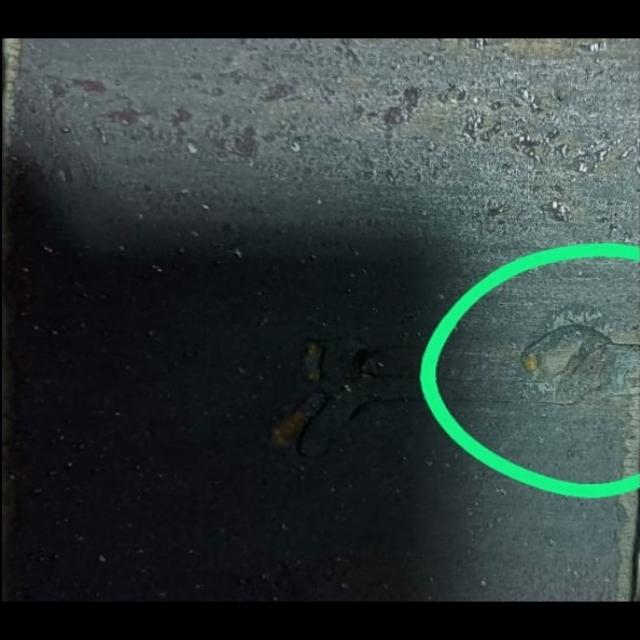defect: (270, 340, 421, 456), (438, 322, 637, 406)
